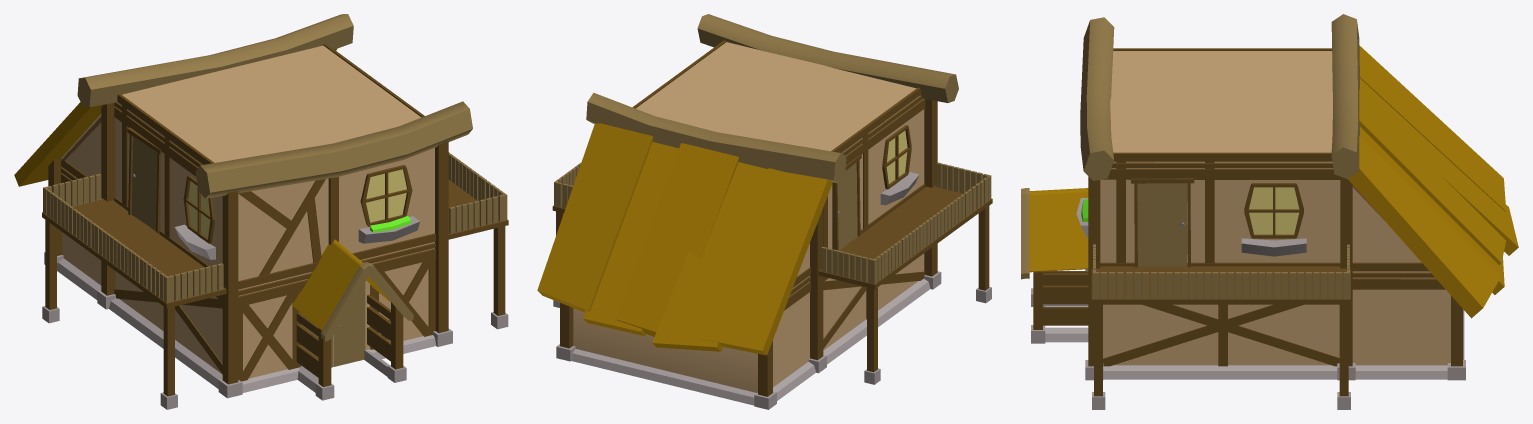
The model's file is mesh_FLat_Roof_1.fbx.
3 views of the same model, side by side, from view 1: azimuth 30°, elevation 25°; view 2: azimuth 150°, elevation 25°; view 3: azimuth 270°, elevation 25° (orthographic). The views are drawn at different scales.
Visible parts, largest first — view 1: FLat_Roof_1; view 2: FLat_Roof_1; view 3: FLat_Roof_1.
Boxes of the visible parts, left/top/right/bottom form: FLat_Roof_1: left=14, top=14, right=508, bottom=409; FLat_Roof_1: left=537, top=14, right=992, bottom=409; FLat_Roof_1: left=1021, top=14, right=1518, bottom=409.
Bounding box in the file's own units: 1027 × 671 × 1246.
Materials: 1 (1 with a texture image).
